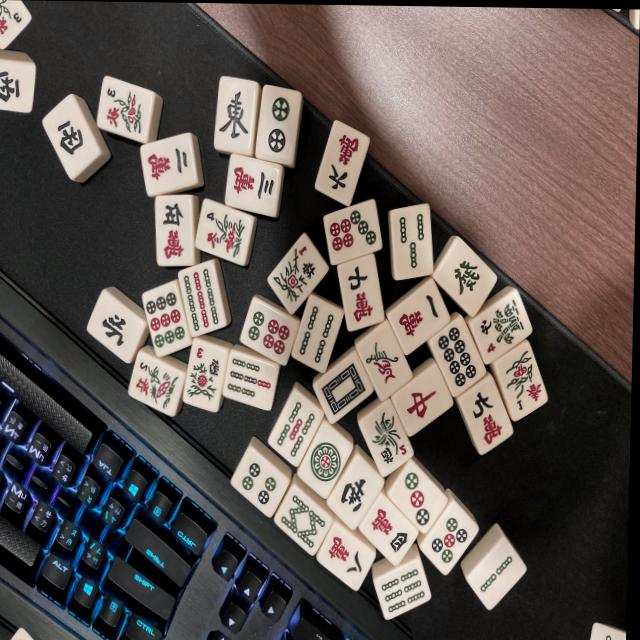bai: (311, 354, 376, 425)
east: (212, 77, 257, 158)
f1: (264, 234, 328, 314)
f3: (183, 338, 222, 416)
f4: (465, 285, 532, 365), (353, 399, 415, 479)
fa: (433, 234, 501, 316)
ff1: (487, 338, 550, 420)
ff2: (122, 352, 184, 417)
ff3: (96, 75, 156, 143)
ff4: (192, 199, 252, 266)
m1: (384, 276, 452, 355)
m2: (136, 132, 196, 196)
m3: (225, 154, 282, 215)
m4: (355, 494, 420, 567)
m5: (153, 191, 199, 267)
m6: (316, 119, 371, 204)
m7: (334, 254, 386, 333)
m8: (312, 522, 377, 592)
m9: (453, 377, 517, 457)
north: (85, 297, 145, 363)
s1: (351, 322, 412, 400)
s2: (461, 535, 530, 611)
s3: (387, 205, 433, 282)
s4: (290, 298, 343, 375), (220, 350, 279, 410)
s5: (265, 392, 324, 465)
s6: (372, 558, 435, 623)
s8: (269, 487, 335, 556)
s9: (176, 260, 230, 338)
south: (323, 456, 386, 530)
t1: (294, 422, 358, 500)
t2: (254, 82, 303, 164)
t3: (382, 461, 452, 536)
t4: (229, 447, 295, 519)
t5: (416, 500, 482, 577)
t6: (239, 301, 301, 367)
t7: (321, 201, 384, 265)
t8: (423, 315, 487, 398)
t9: (138, 281, 194, 358)
west: (40, 96, 104, 182), (0, 59, 36, 117)
zhong: (389, 367, 455, 437)
